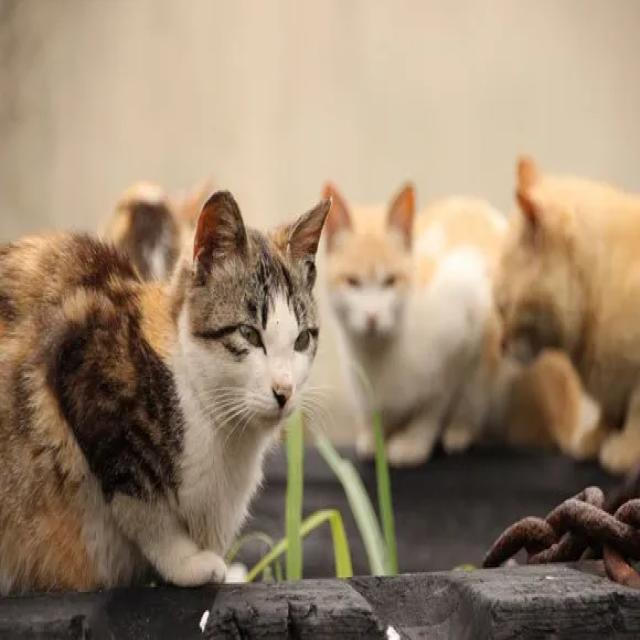cat: (0, 191, 329, 593), (326, 185, 601, 465), (496, 159, 640, 469), (104, 180, 212, 280)
